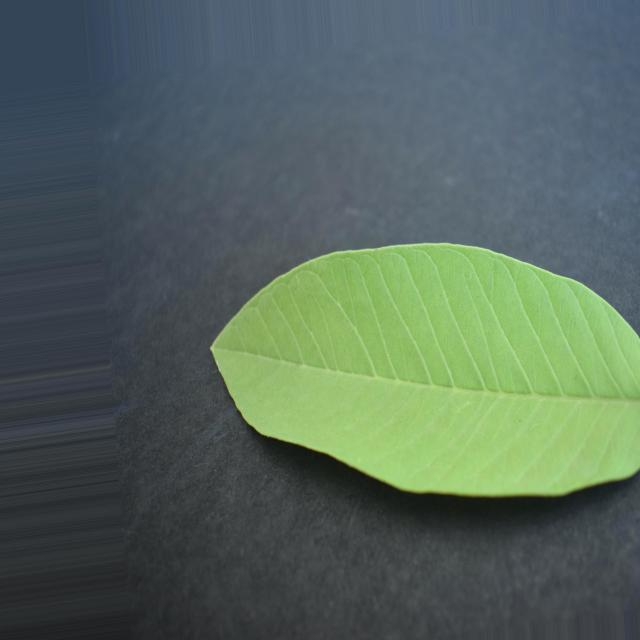Healthy: (212, 244, 640, 497)
